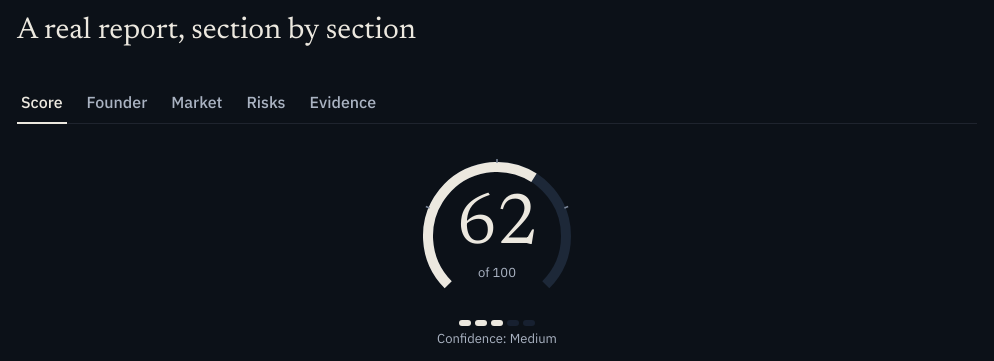
ReportTour › switches to the Evidence tab's real EvidenceRailContent on click
Click the tab "Evidence" at (343, 103), box [306,82,380,124]
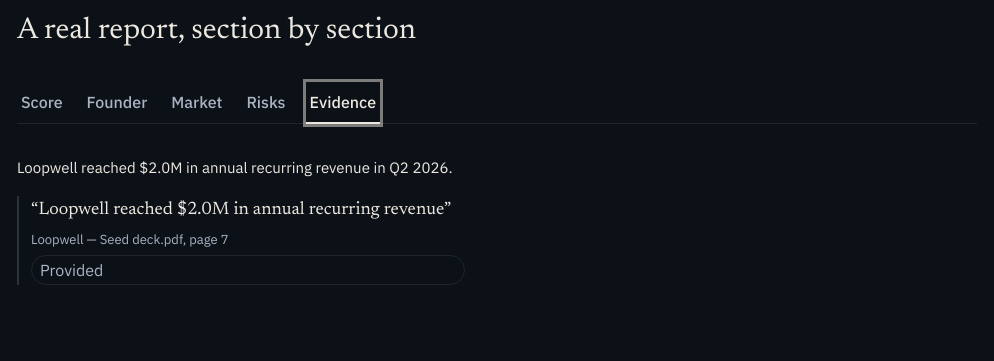
Expected: the text "Provided" is shown, [31,255,465,285]
